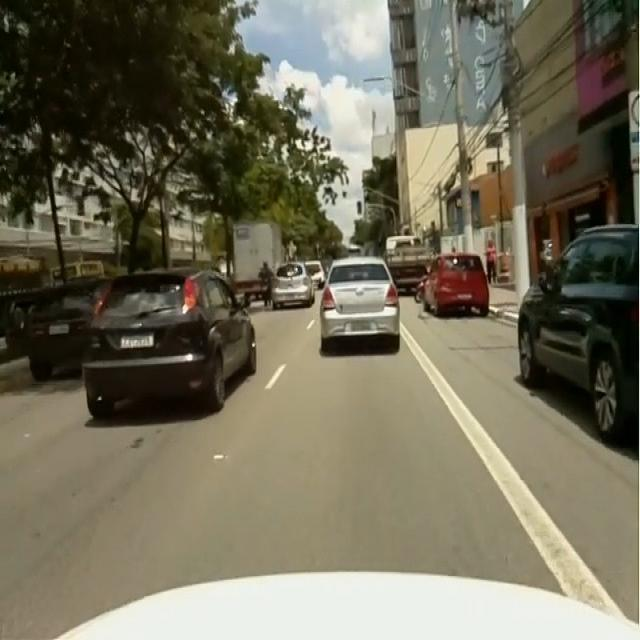car: (518, 225, 640, 440), (82, 271, 256, 417), (321, 256, 400, 351), (29, 282, 98, 381), (424, 254, 489, 316), (271, 262, 314, 308)
